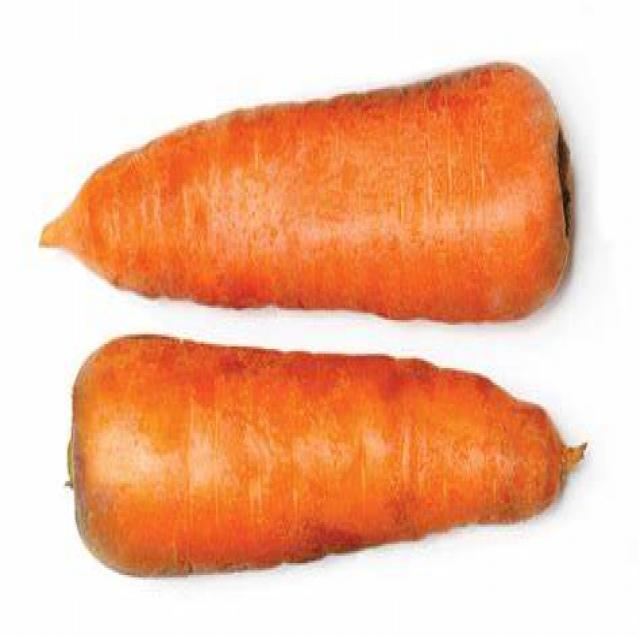Carrot: (29, 62, 584, 327), (62, 332, 591, 574)
